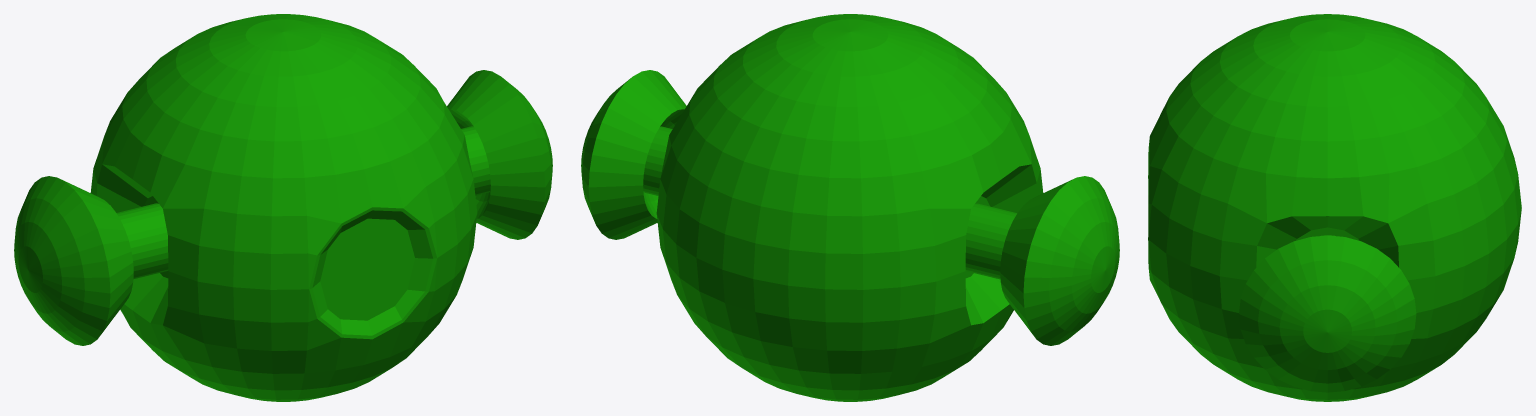
The model's file is sine enemy 1.fbx.
3 views of the same model, side by side, from view 1: azimuth 30°, elevation 25°; view 2: azimuth 150°, elevation 25°; view 3: azimuth 270°, elevation 25° (orthographic).
Parts seen in each view (by area): view 1: Body; view 2: Body; view 3: Body.
Boxes of the visible parts, bbox=[...] form: Body: bbox=[14, 14, 552, 401]; Body: bbox=[581, 14, 1119, 401]; Body: bbox=[1148, 14, 1521, 401].
Bounding box in the file's own units: 303 × 200 × 192.
